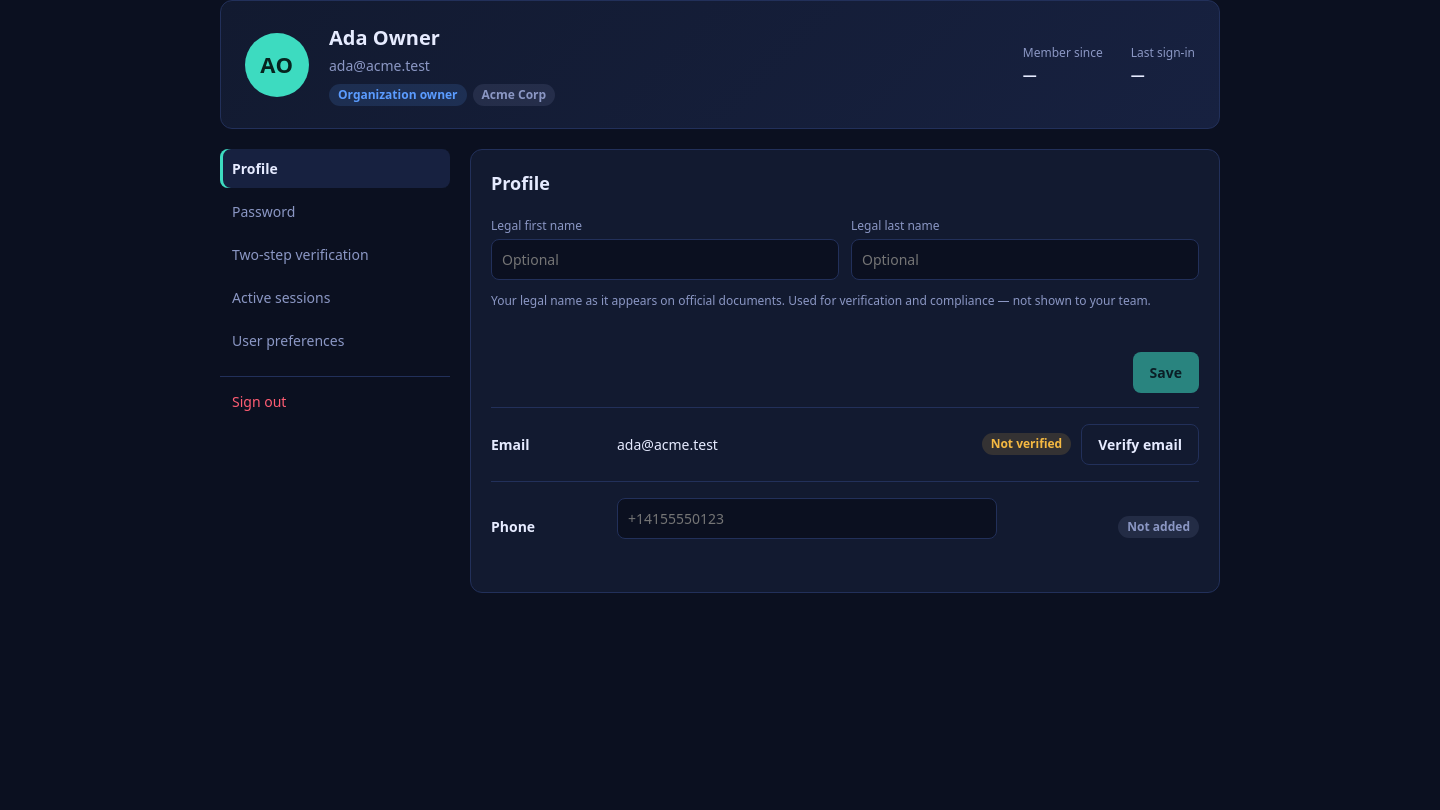
it: AccountPage › saves the legal name through PUT /v1/auth/me, sending the current name unchanged
Expected: the button "Save" is disabled, [1133, 352, 1199, 393]
Type "Ada" into the field labelled "Legal first name".
click(665, 260); type("Ada")  # box [491, 239, 839, 280]
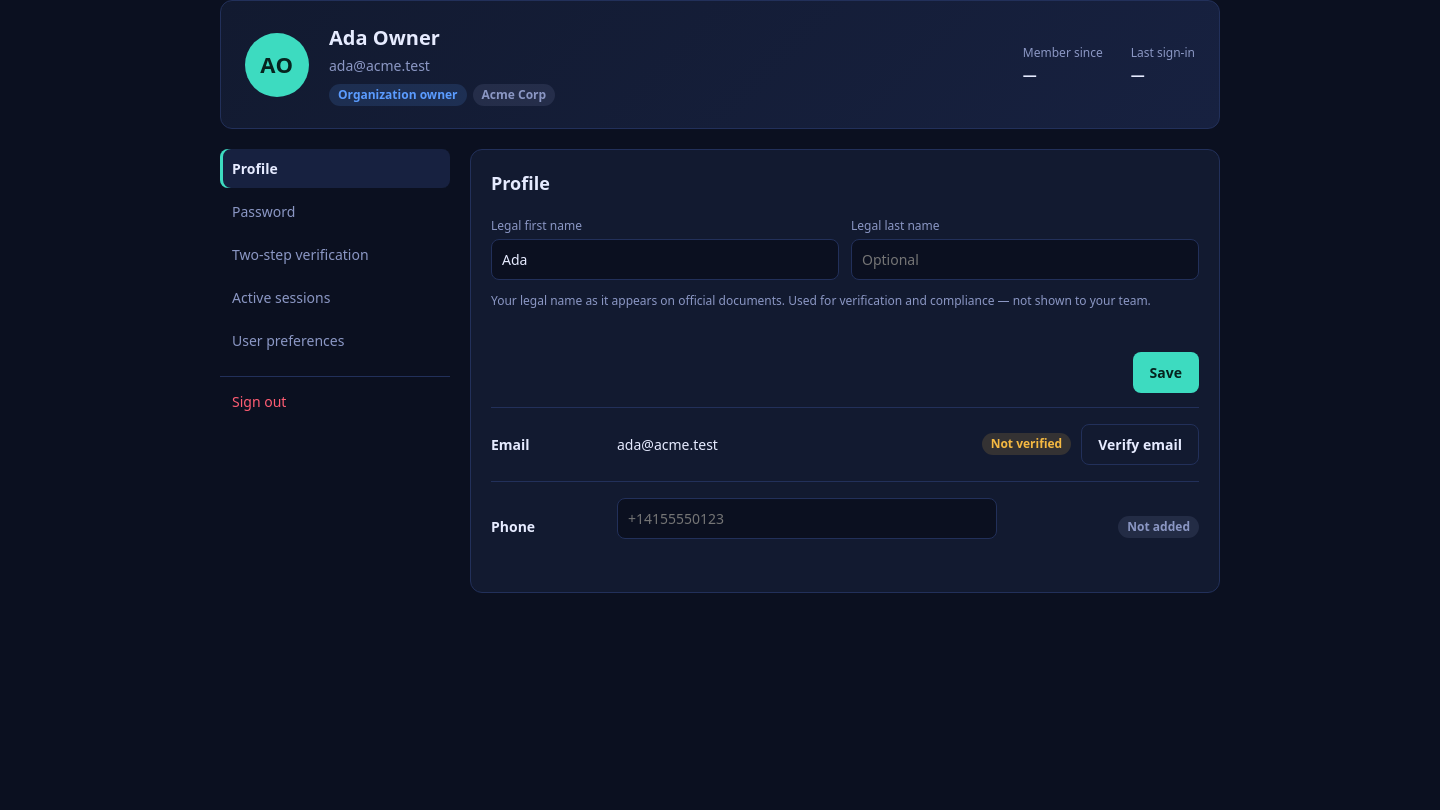
Type "Lovelace" into the field labelled "Legal last name".
click(1025, 260); type("Lovelace")  # box [851, 239, 1199, 280]
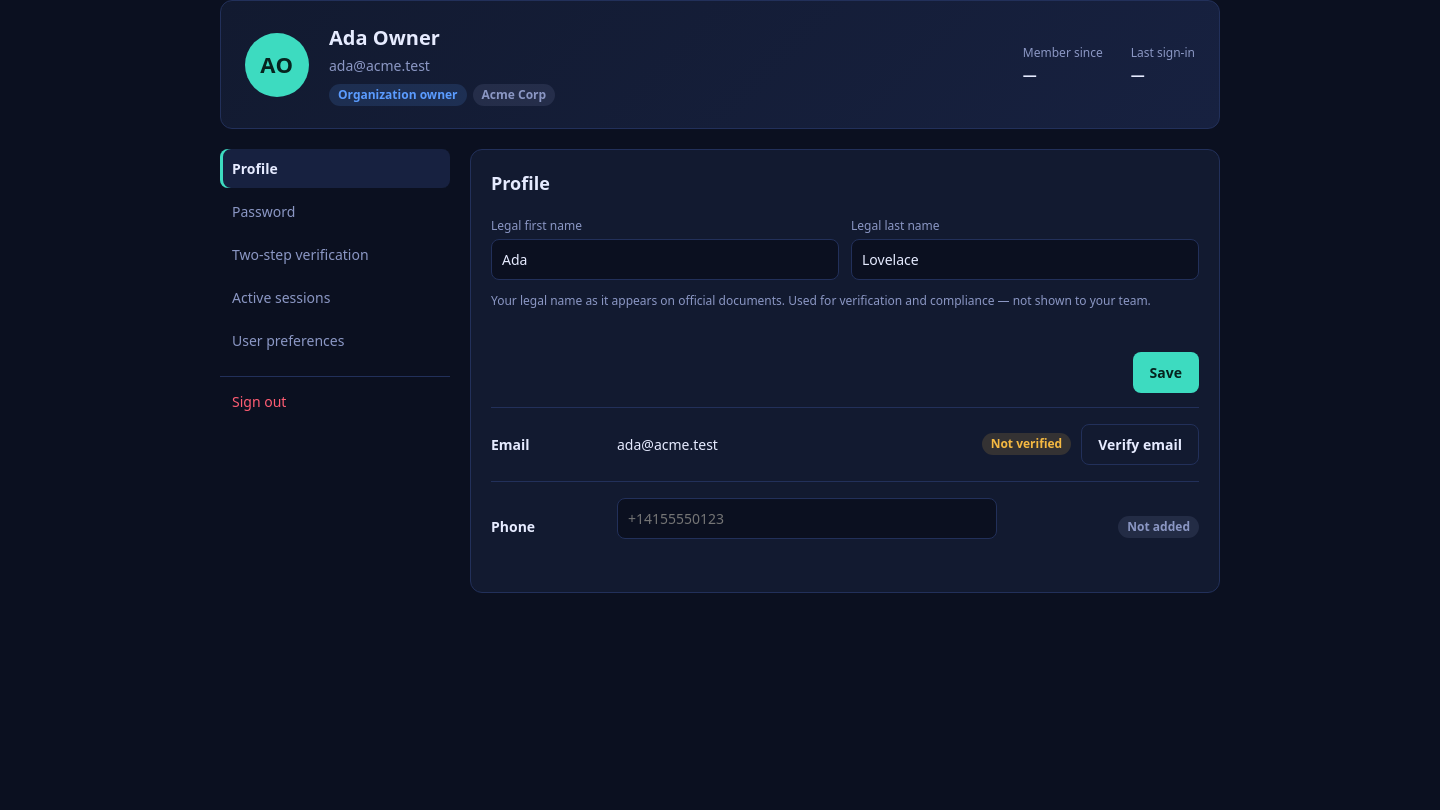
Click the button "Save".
click(1166, 372)  # box [1133, 352, 1199, 393]
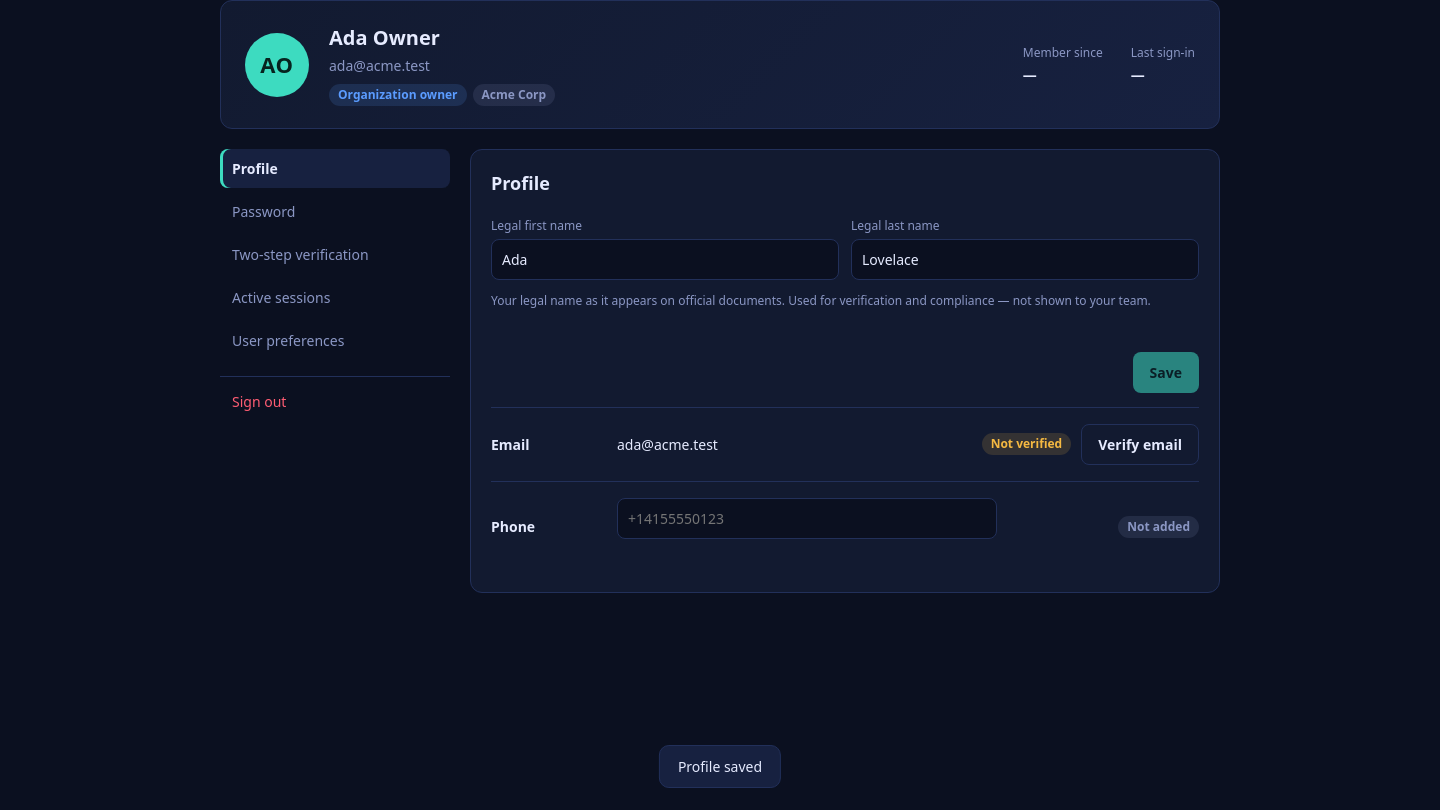
Result: the button "Save" is disabled at [1133, 352, 1199, 393]
